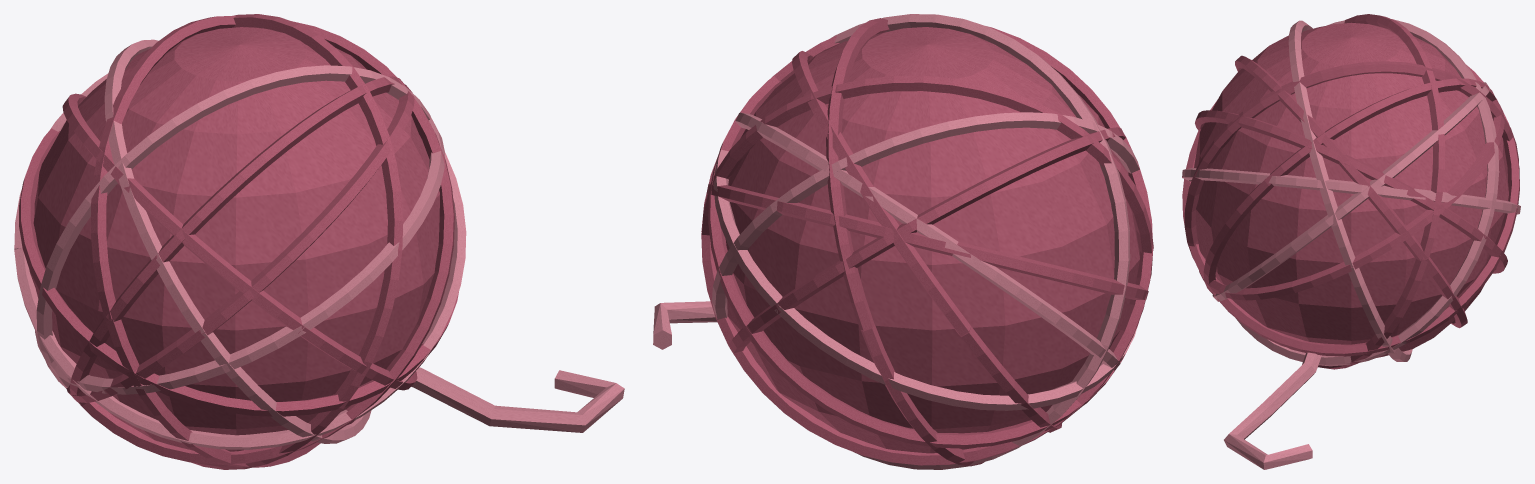
File: yarn_ball.obj
The picture shows the model from 3 angles, left to right: view 1: azimuth 30°, elevation 25°; view 2: azimuth 150°, elevation 25°; view 3: azimuth 270°, elevation 25°; orthographic projection. The views are drawn at different scales.
Visible parts, largest first — view 1: yarn_ball; view 2: yarn_ball; view 3: yarn_ball.
Boxes of the visible parts, box(x1,y1,x2,y2) form: yarn_ball: box(14, 14, 624, 469); yarn_ball: box(653, 14, 1153, 469); yarn_ball: box(1182, 14, 1520, 469).
Size of the model in its own units: 5.6 by 4.02 by 3.98.
Materials: 1 (1 with a texture image).
